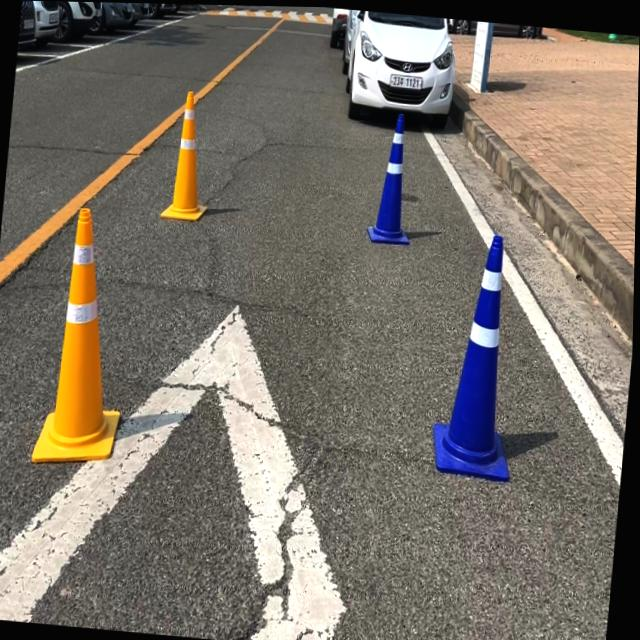b_rub: (436, 232, 512, 478), (368, 110, 410, 242)
y_rub: (33, 206, 121, 462), (161, 89, 208, 218)
